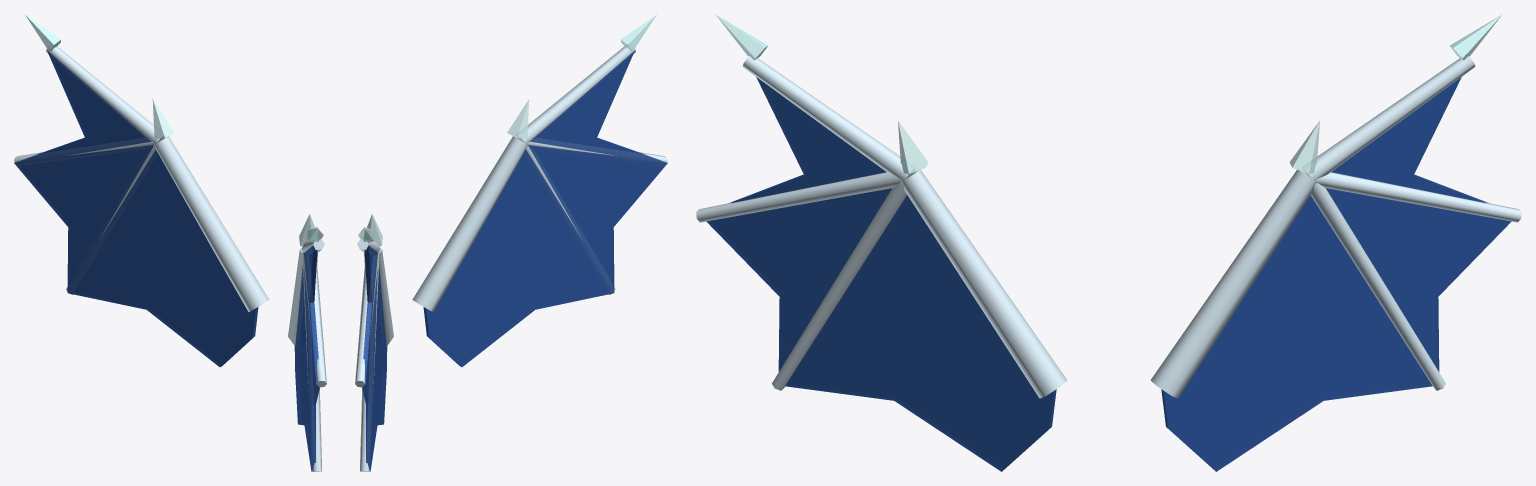
File: back_frost_wings.glb
The picture shows the model from 3 angles, left to right: view 1: azimuth 30°, elevation 25°; view 2: azimuth 150°, elevation 25°; view 3: azimuth 270°, elevation 25°; orthographic projection. The views are drawn at different scales.
Parts seen in each view (by area): view 1: Wing_L, Wing_R; view 2: Wing_R, Wing_L; view 3: Wing_L, Wing_R.
Part boxes in pixels (left/top/right/bottom): Wing_L: left=14, top=14, right=269, bottom=367; Wing_R: left=288, top=214, right=326, bottom=471; Wing_R: left=412, top=14, right=667, bottom=367; Wing_L: left=355, top=214, right=393, bottom=471; Wing_L: left=1150, top=14, right=1521, bottom=471; Wing_R: left=696, top=14, right=1067, bottom=471.
Size of the model in its own units: 0.38 by 0.8648 by 1.63.
